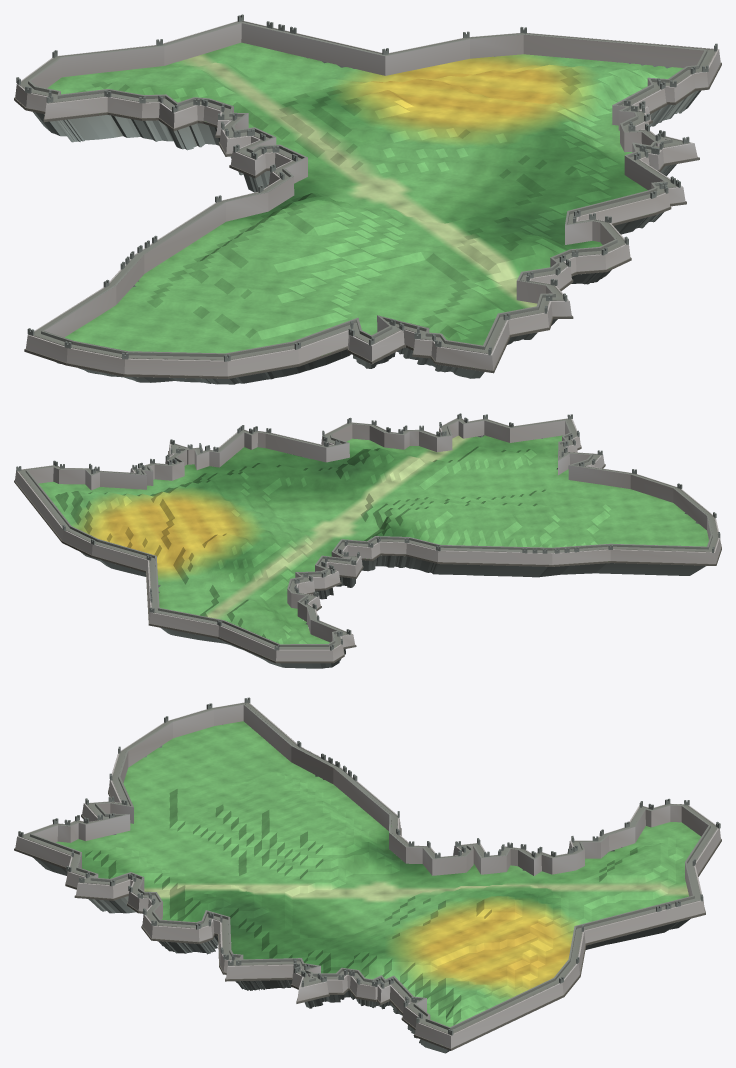
The picture shows the model from 3 angles, top to bottom: view 1: azimuth 30°, elevation 25°; view 2: azimuth 150°, elevation 25°; view 3: azimuth 270°, elevation 25°; orthographic projection. The views are drawn at different scales.
Parts seen in each view (by area): view 1: ground_a6152dbe; view 2: ground_a6152dbe; view 3: ground_a6152dbe.
Boxes of the visible parts, x1,y1,x2,y2 form: ground_a6152dbe: [14, 14, 721, 384]; ground_a6152dbe: [14, 413, 721, 668]; ground_a6152dbe: [14, 697, 721, 1053].
Size of the model in its own units: 156 by 7.61 by 138.
Materials: 3 (1 with a texture image).
